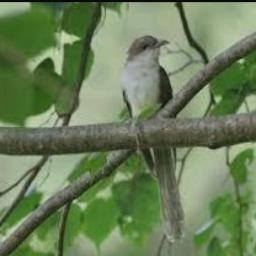Cuckoo: (121, 35, 183, 243)
